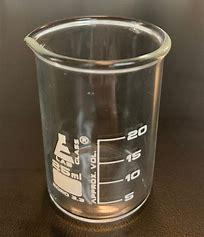Beaker: (24, 9, 181, 222)
